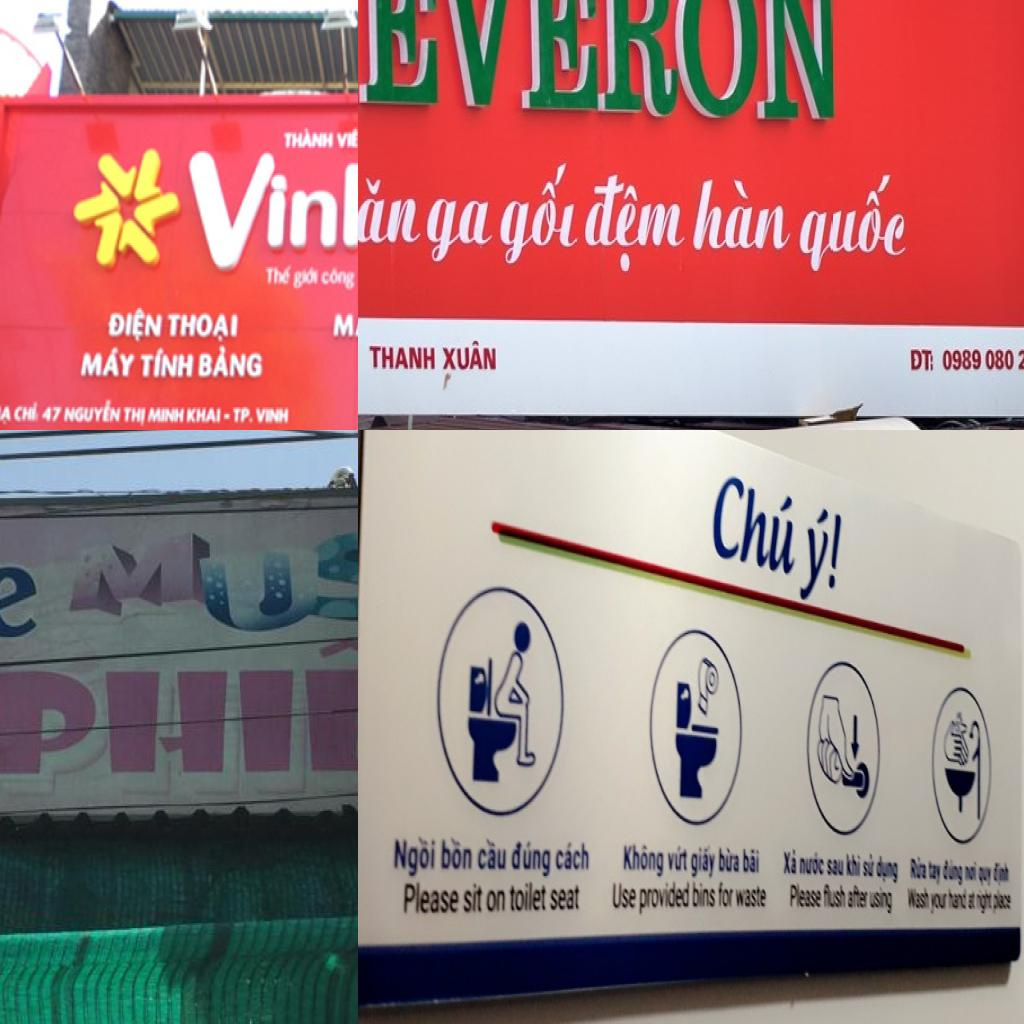text: (358, 0, 844, 124), (0, 626, 358, 794), (67, 528, 358, 620), (180, 146, 358, 274), (578, 171, 696, 276), (793, 173, 913, 276), (711, 465, 800, 582), (496, 158, 586, 270), (689, 178, 798, 255), (358, 160, 427, 245), (420, 198, 500, 266), (797, 502, 843, 609), (195, 344, 266, 383), (166, 310, 240, 344), (77, 344, 138, 382), (105, 307, 165, 344), (137, 346, 196, 382), (402, 880, 458, 916), (368, 344, 438, 372), (392, 834, 436, 878), (442, 338, 498, 372), (510, 838, 553, 882), (60, 398, 122, 428), (638, 884, 691, 916), (621, 842, 665, 880), (509, 880, 547, 913), (283, 126, 334, 150), (440, 838, 474, 873), (554, 839, 590, 872), (475, 838, 507, 874), (145, 402, 187, 428), (329, 303, 358, 340), (734, 883, 770, 912), (788, 880, 822, 910), (690, 843, 716, 882), (320, 266, 357, 291), (548, 886, 582, 913), (875, 853, 899, 889), (184, 404, 223, 426), (611, 880, 637, 913), (256, 406, 293, 428), (13, 400, 41, 428), (943, 856, 965, 890), (870, 888, 894, 918), (718, 843, 740, 875), (691, 883, 717, 910), (292, 266, 320, 290), (265, 266, 295, 288), (461, 883, 483, 913), (667, 843, 689, 873), (910, 349, 936, 374), (741, 846, 762, 876), (799, 852, 825, 876), (822, 886, 848, 910), (123, 402, 146, 429), (946, 889, 969, 916), (780, 846, 799, 878), (40, 402, 65, 426), (906, 888, 931, 912), (335, 125, 358, 151), (717, 879, 735, 910), (232, 402, 255, 426), (484, 889, 506, 913), (848, 888, 870, 912), (845, 849, 862, 877), (910, 856, 928, 882), (826, 853, 846, 876), (928, 859, 942, 889), (994, 860, 1010, 886), (976, 890, 994, 912), (930, 893, 948, 914), (978, 864, 993, 888), (0, 402, 14, 426), (964, 862, 978, 886), (863, 852, 876, 877), (969, 892, 977, 913), (223, 412, 232, 421)
